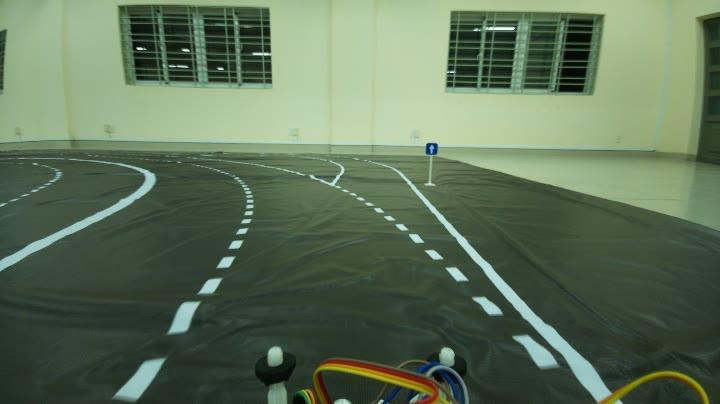onewayroad: (420, 138, 440, 162)
